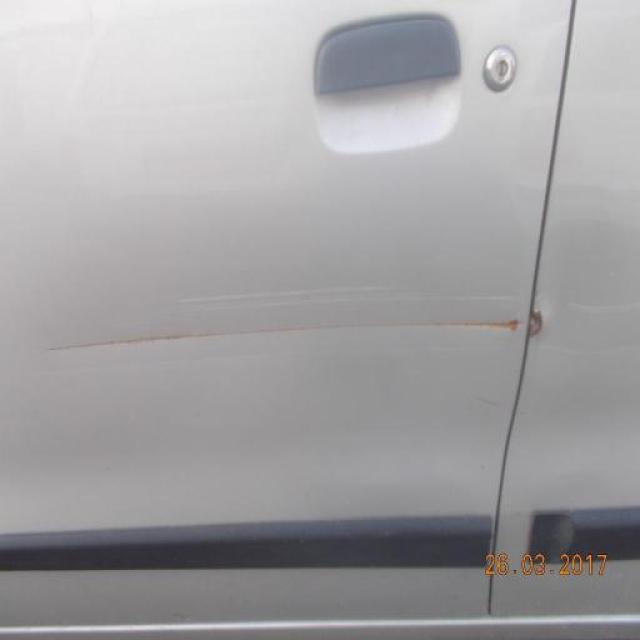scratch: (39, 308, 556, 352)
